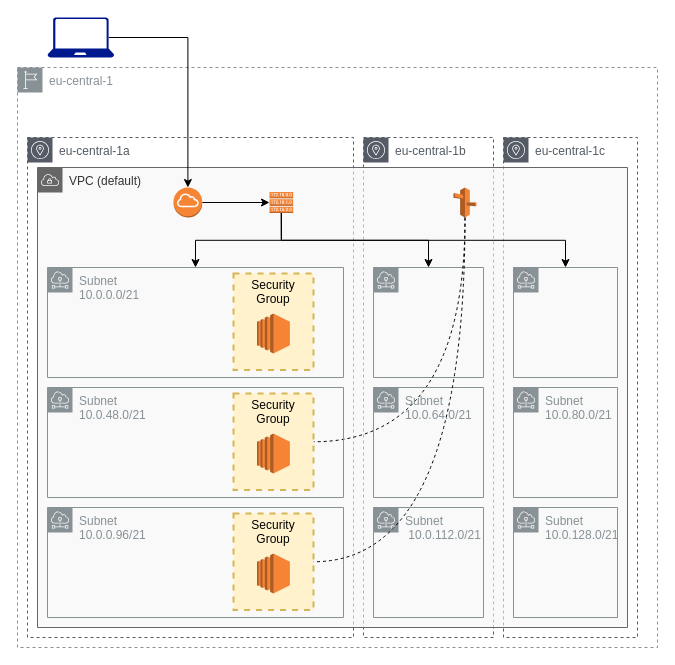
Image size: 675x665. Some labels were removed from this diagram. Here are the shapes that lost their labels. From the top down, the centre of each, then its label:
point 187,202: Internet gateway
point 280,202: Route table public
point 464,202: Route 53
point 428,322: Subnet 10.0.16.0/21
point 565,322: Subnet 10.0.32.0/21
